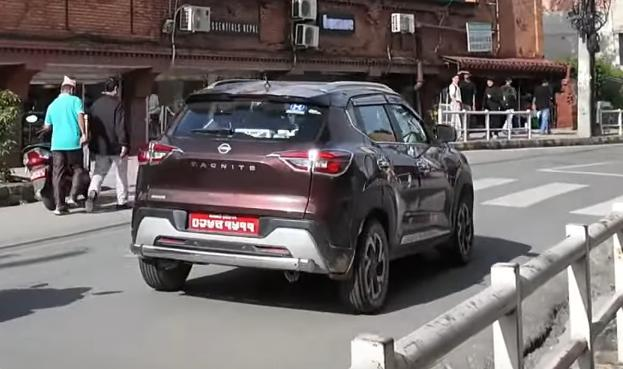car: (129, 75, 487, 307)
